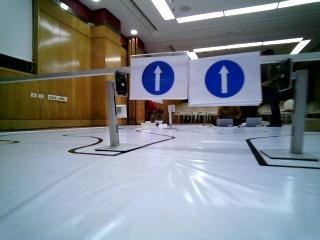straight: (198, 61, 259, 103), (133, 58, 189, 98)
